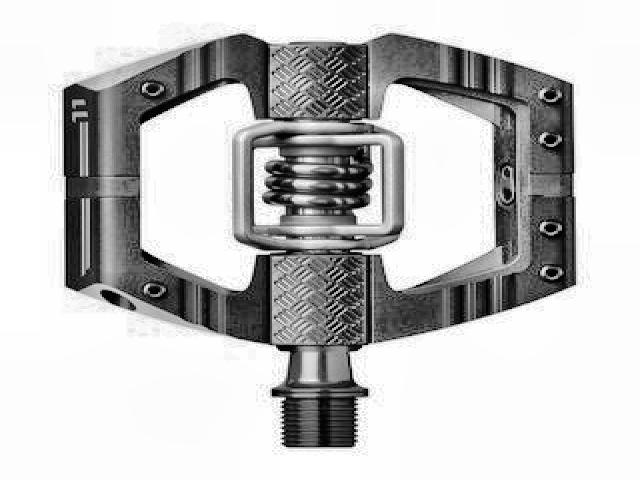pedal: (60, 30, 580, 454)
